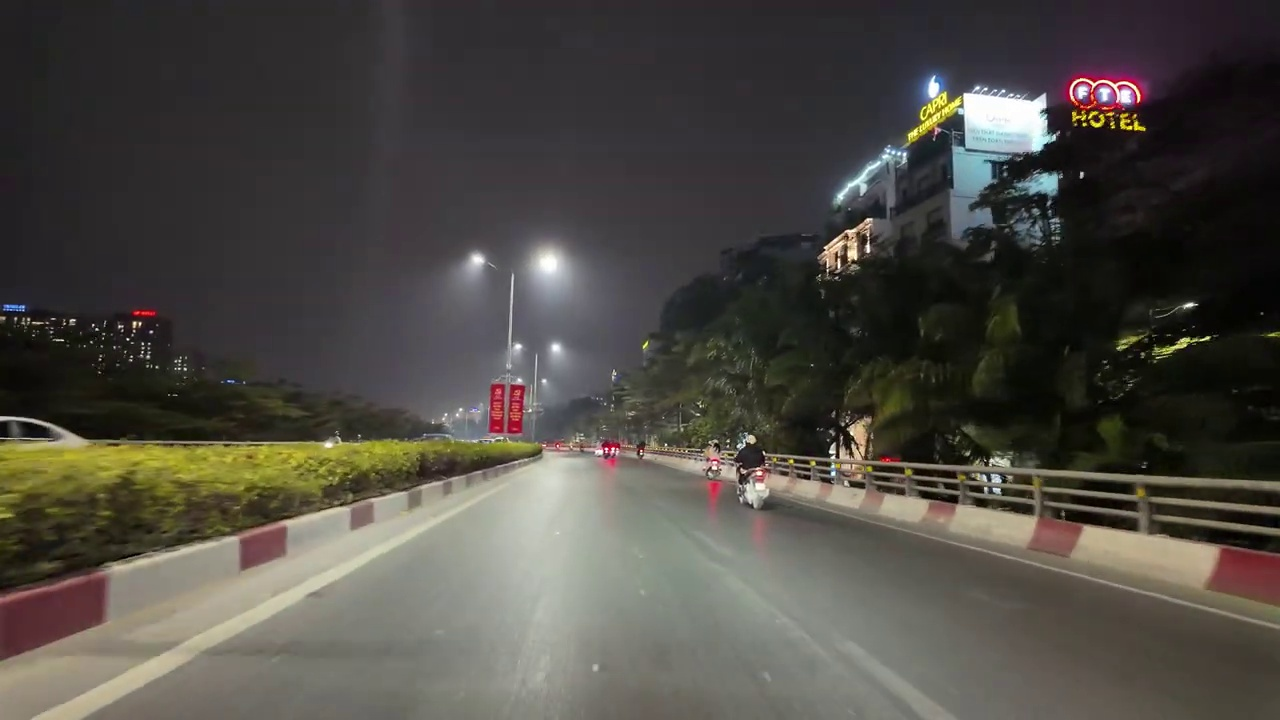acesa: (530, 246, 566, 279), (461, 248, 489, 276), (545, 340, 570, 366)
